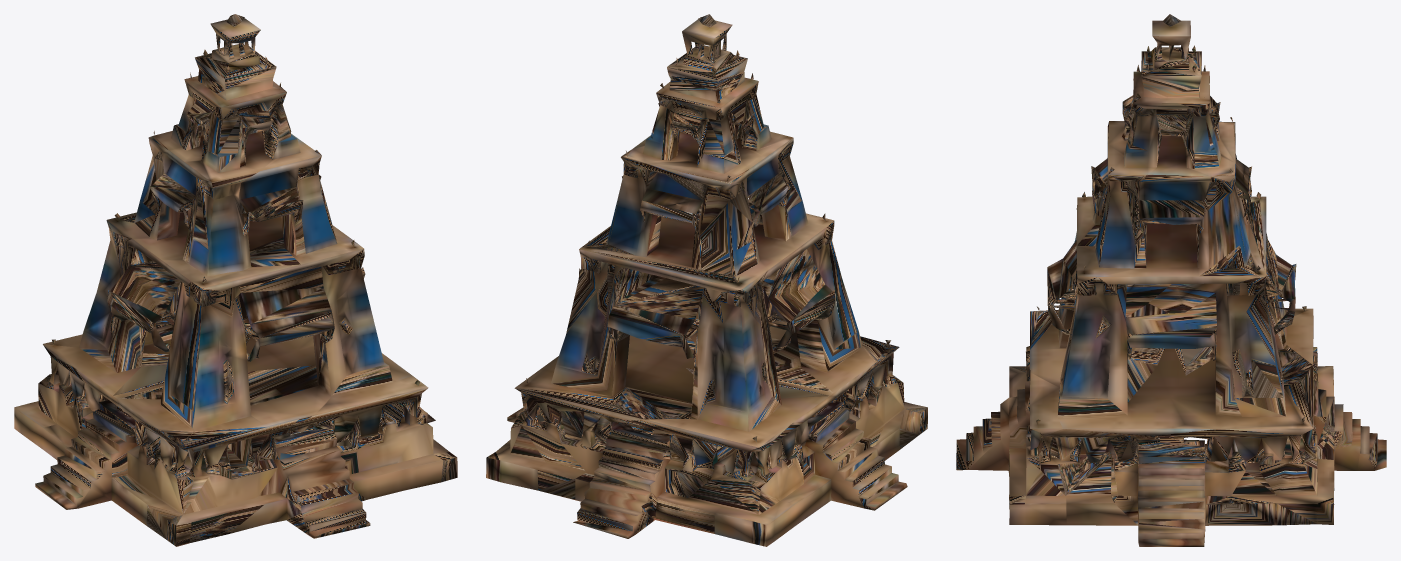
File: A_majestic_tiered_str.glb
3 renders of one model, left to right at view 1: azimuth 30°, elevation 25°; view 2: azimuth 150°, elevation 25°; view 3: azimuth 270°, elevation 25°, orthographic.
Visible parts, largest first — view 1: A_majestic_tiered_str; view 2: A_majestic_tiered_str; view 3: A_majestic_tiered_str.
Part boxes in pixels (x1=…): A_majestic_tiered_str: x1=14, y1=14, x2=457, y2=546; A_majestic_tiered_str: x1=486, y1=14, x2=927, y2=546; A_majestic_tiered_str: x1=956, y1=14, x2=1386, y2=546.
Bounding box in the file's own units: 1.67 × 1.9 × 1.68.
1 material, 1 textured.
